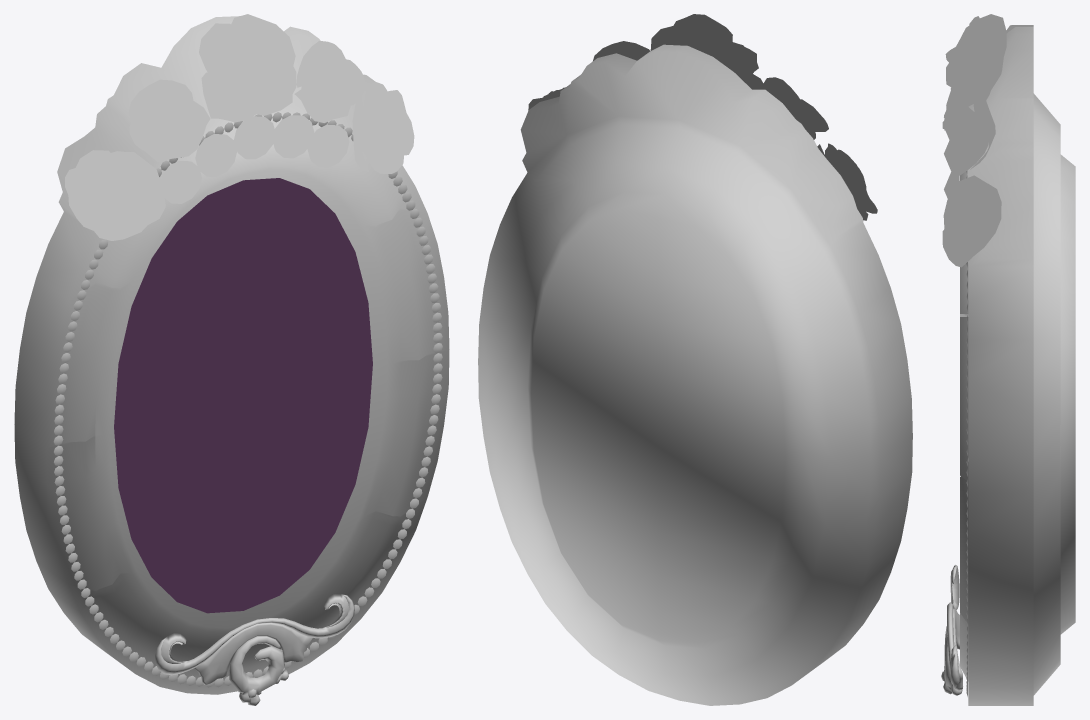
File: chara_101501_weapon_a_sp.fbx
3 views of the same model, side by side, from view 1: azimuth 30°, elevation 25°; view 2: azimuth 150°, elevation 25°; view 3: azimuth 270°, elevation 25° (orthographic).
Parts seen in each view (by area): view 1: weapon_a_sp_mesh, weapon_b_sp_mesh; view 2: weapon_a_sp_mesh; view 3: weapon_a_sp_mesh.
Part boxes in pixels (x1,y1,x2,y2): weapon_a_sp_mesh: (14,14,449,705); weapon_b_sp_mesh: (114,178,372,613); weapon_a_sp_mesh: (478,14,912,705); weapon_a_sp_mesh: (941,14,1075,705).
Bounding box in the file's own units: 1.57 × 2.52 × 0.453.
